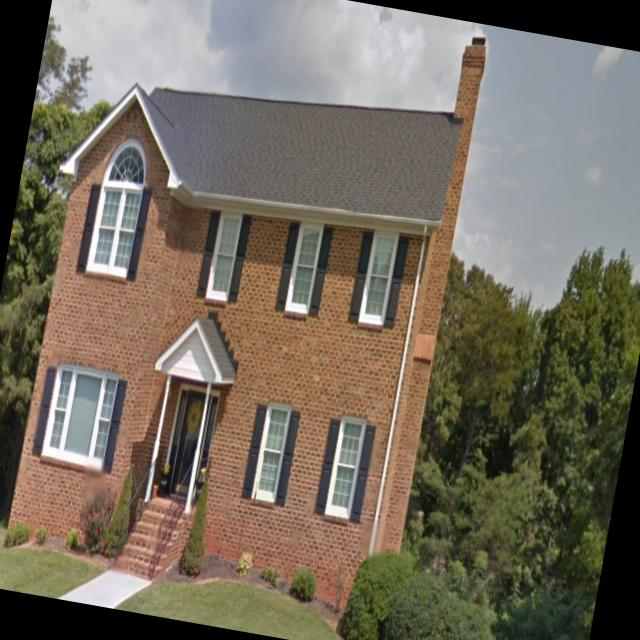House: (0, 0, 489, 620)
